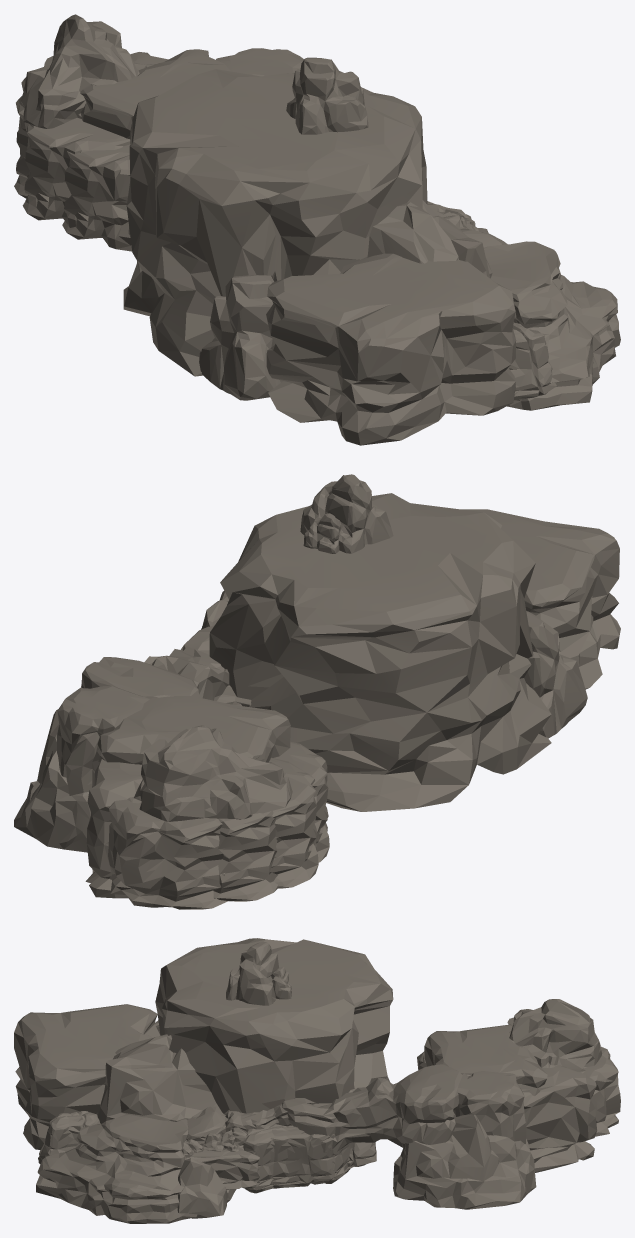
Rendered from MerchantIsland.fbx.
The picture shows the model from 3 angles, top to bottom: view 1: azimuth 30°, elevation 25°; view 2: azimuth 150°, elevation 25°; view 3: azimuth 270°, elevation 25°; orthographic projection. The views are drawn at different scales.
Visible parts, largest first — view 1: SM_Env_Rock_Large_07__5_, SM_Env_Rock_Large_010__1_, SM_Env_Rock_Large_09, SM_Env_Rock_Huge_02, SM_Env_Rock_Large_05, SM_Env_Rock_Large_07__1_, SM_Env_Rock_Large_07__4_, SM_Env_Rock_Huge_03, SM_Env_Rock_Large_010_1, SM_Env_Rock_Large_05__2_, SM_Env_Rock_Large_02, SM_Env_Rock_Large_07 (+2 smaller); view 2: SM_Env_Rock_Large_07__5_, SM_Env_Rock_Large_010__1_, SM_Env_Rock_Huge_02, SM_Env_Rock_Large_07__2_, SM_Env_Rock_Large_010_1, SM_Env_Rock_Large_08, SM_Env_Rock_Large_07, SM_Env_Rock_Large_07__3_, SM_Env_Rock_Huge_03__1_, SM_Env_Rock_Large_07__4_, SM_Env_Rock_Large_05, SM_Env_Rock_Large_010__1__1 (+3 smaller); view 3: SM_Env_Rock_Large_07__5_, SM_Env_Rock_Large_09, SM_Env_Rock_Large_010__1_, SM_Env_Rock_Large_08, SM_Env_Rock_Huge_03, SM_Env_Rock_Huge_03__1_, SM_Env_Rock_Large_010__1__1, SM_Env_Rock_Huge_02, SM_Env_Rock_Large_010_1, SM_Env_Rock_Large_07, SM_Env_Rock_Large_011__1_, SM_Env_Rock_02__2_ (+11 smaller).
Part boxes in pixels (<box>): SM_Env_Rock_Large_07__5_: <box>123,69,427,376</box>; SM_Env_Rock_Large_010__1_: <box>266,253,516,445</box>; SM_Env_Rock_Large_09: <box>483,241,620,410</box>; SM_Env_Rock_Huge_02: <box>21,14,146,128</box>; SM_Env_Rock_Large_05: <box>199,275,283,400</box>; SM_Env_Rock_Large_07__1_: <box>62,144,132,251</box>; SM_Env_Rock_Large_07__4_: <box>22,117,130,227</box>; SM_Env_Rock_Huge_03: <box>367,200,492,278</box>; SM_Env_Rock_Large_010_1: <box>80,49,230,138</box>; SM_Env_Rock_Large_05__2_: <box>286,57,368,134</box>; SM_Env_Rock_Large_02: <box>508,322,556,400</box>; SM_Env_Rock_Large_07: <box>216,48,303,76</box>; SM_Env_Rock_Large_07__5_: <box>209,493,551,811</box>; SM_Env_Rock_Large_010__1_: <box>461,509,620,689</box>; SM_Env_Rock_Huge_02: <box>132,725,292,821</box>; SM_Env_Rock_Large_07__2_: <box>108,797,228,909</box>; SM_Env_Rock_Large_010_1: <box>97,696,290,764</box>; SM_Env_Rock_Large_08: <box>80,626,229,701</box>; SM_Env_Rock_Large_07: <box>57,686,150,795</box>; SM_Env_Rock_Large_07__3_: <box>213,810,278,901</box>; SM_Env_Rock_Huge_03__1_: <box>14,747,90,852</box>; SM_Env_Rock_Large_07__4_: <box>269,757,318,888</box>; SM_Env_Rock_Large_05: <box>524,611,587,738</box>; SM_Env_Rock_Large_010__1__1: <box>85,750,142,898</box>; SM_Env_Rock_Large_07__5_: <box>155,938,393,1113</box>; SM_Env_Rock_Large_09: <box>36,1114,235,1223</box>; SM_Env_Rock_Large_010__1_: <box>14,1004,160,1149</box>; SM_Env_Rock_Large_08: <box>282,1064,462,1152</box>; SM_Env_Rock_Huge_03: <box>96,1034,222,1124</box>; SM_Env_Rock_Huge_03__1_: <box>393,1135,536,1209</box>; SM_Env_Rock_Large_010__1__1: <box>521,1065,597,1172</box>; SM_Env_Rock_Huge_02: <box>507,999,601,1071</box>; SM_Env_Rock_Large_010_1: <box>424,1024,547,1095</box>; SM_Env_Rock_Large_07: <box>453,1071,526,1143</box>; SM_Env_Rock_Large_011__1_: <box>268,1124,335,1188</box>; SM_Env_Rock_02__2_: <box>448,1114,498,1183</box>.
Size of the model in its own units: 8625 by 5927 by 15715.
1 material, 1 textured.
